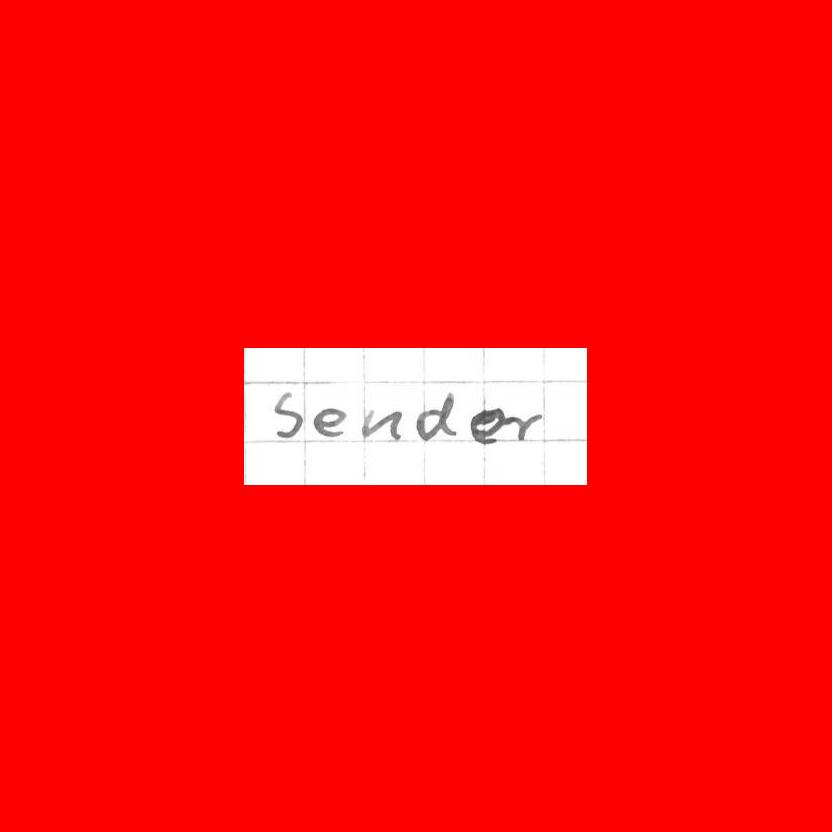Char: (414, 390, 458, 440), (271, 388, 307, 439), (359, 405, 402, 443), (468, 403, 504, 447), (311, 405, 346, 440), (503, 411, 540, 441)
